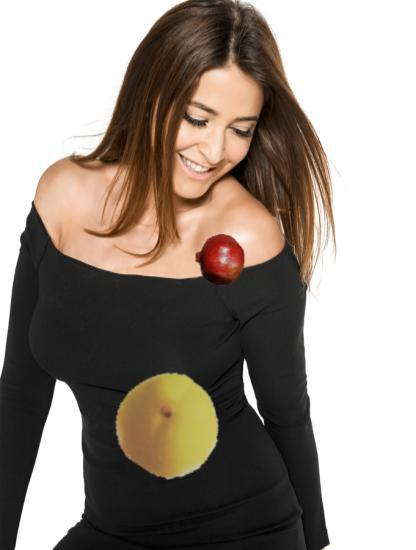Peach: (115, 371, 222, 478)
Pomegranate: (194, 234, 247, 287)
